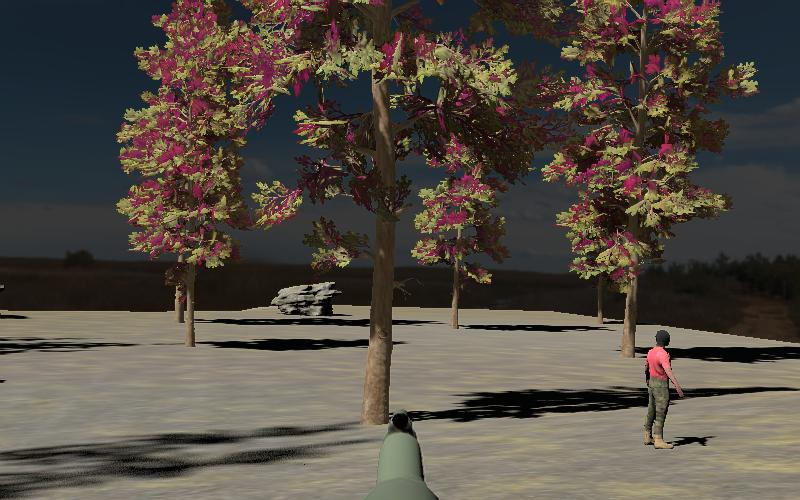Human: (643, 328, 685, 449)
